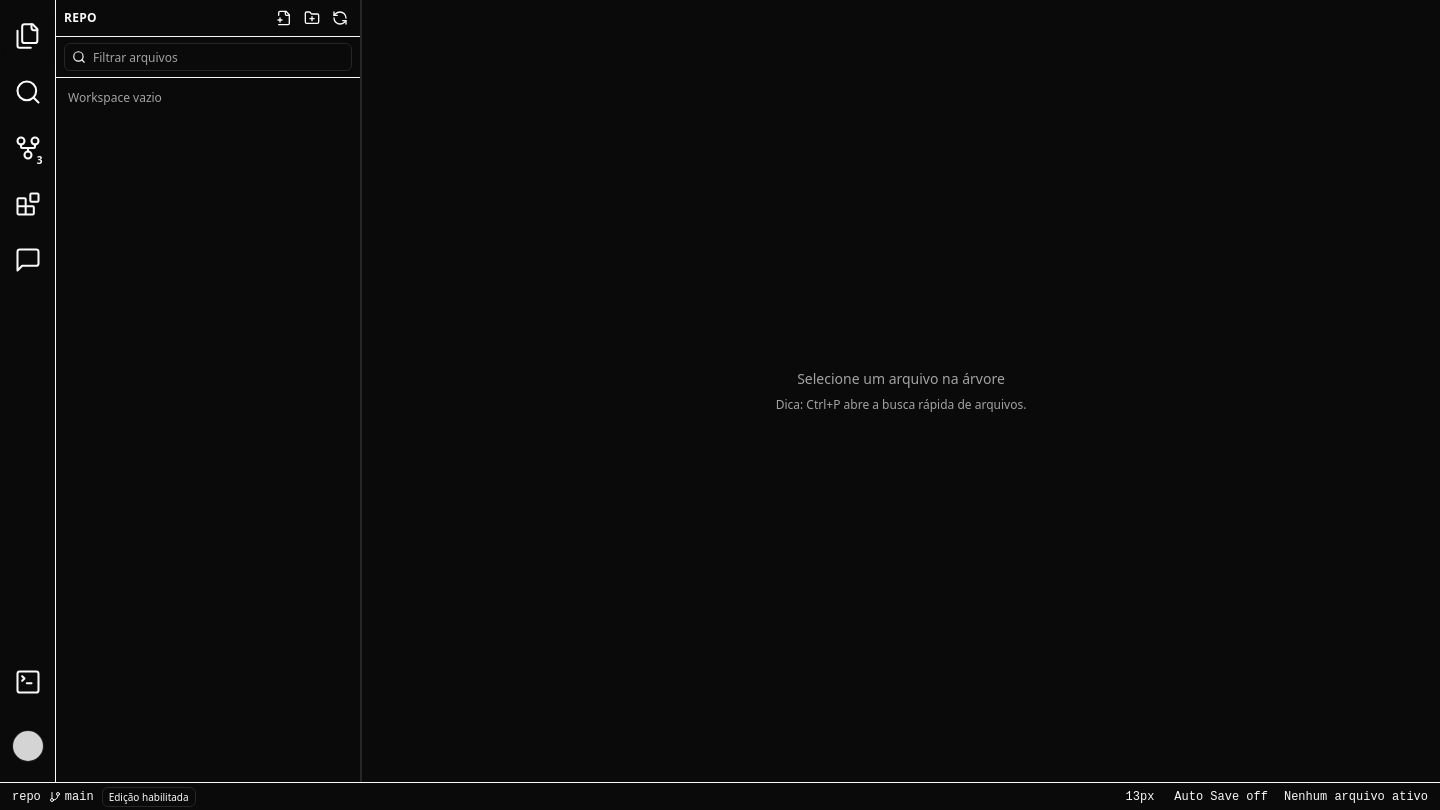
Test case: <AppShell /> › abre o menu de configurações pelo avatar do GitHub
The width and height of the screenshot is (1440, 810).
Click the button named "Conta e configurações" at [28, 746], box x1=4 y1=722 x2=52 y2=770
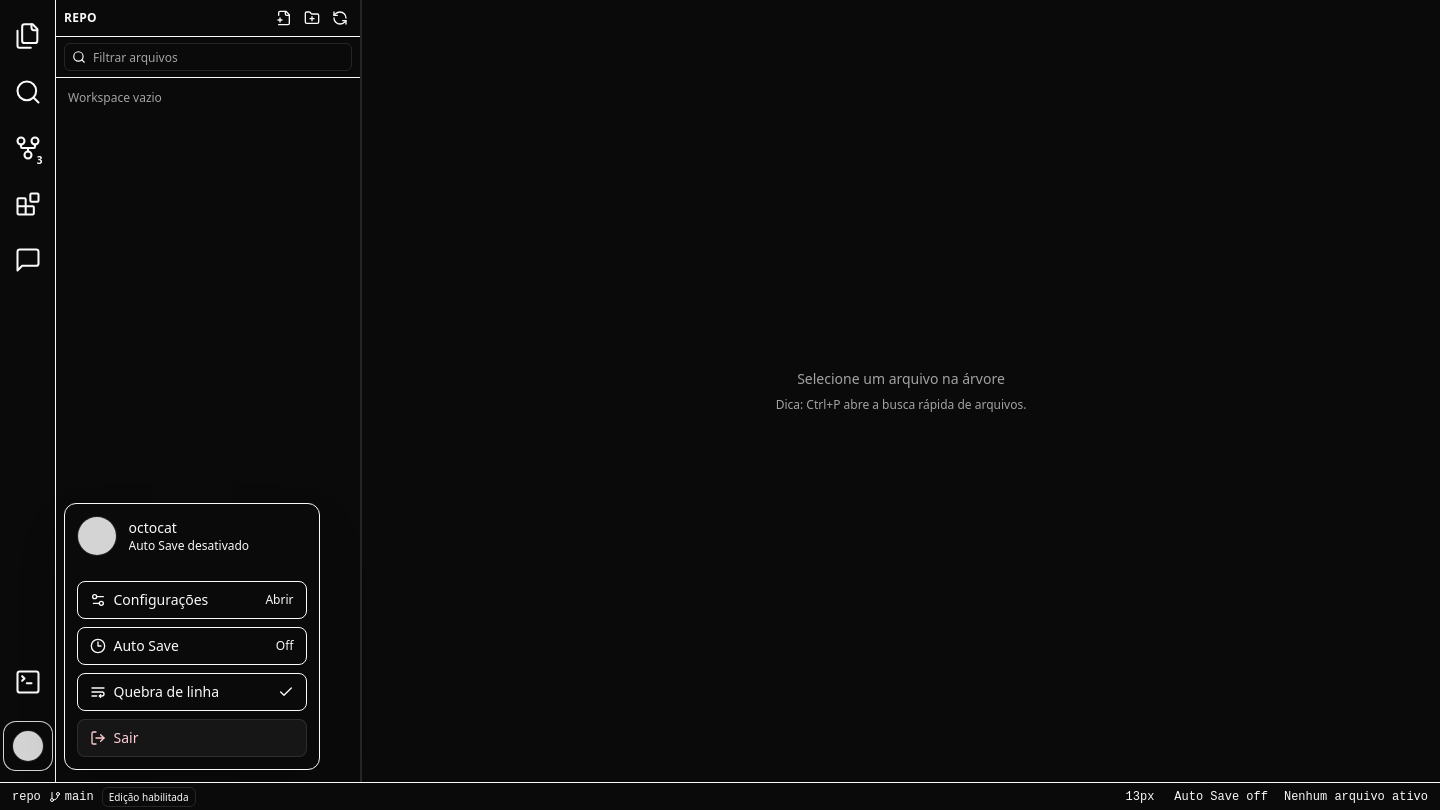
Result: the text "octocat" is shown at x1=128 y1=518 x2=177 y2=537
Result: the button "Configurações Abrir" is shown
Click the button "Configurações Abrir" at [192, 600], box x1=76 y1=581 x2=306 y2=619
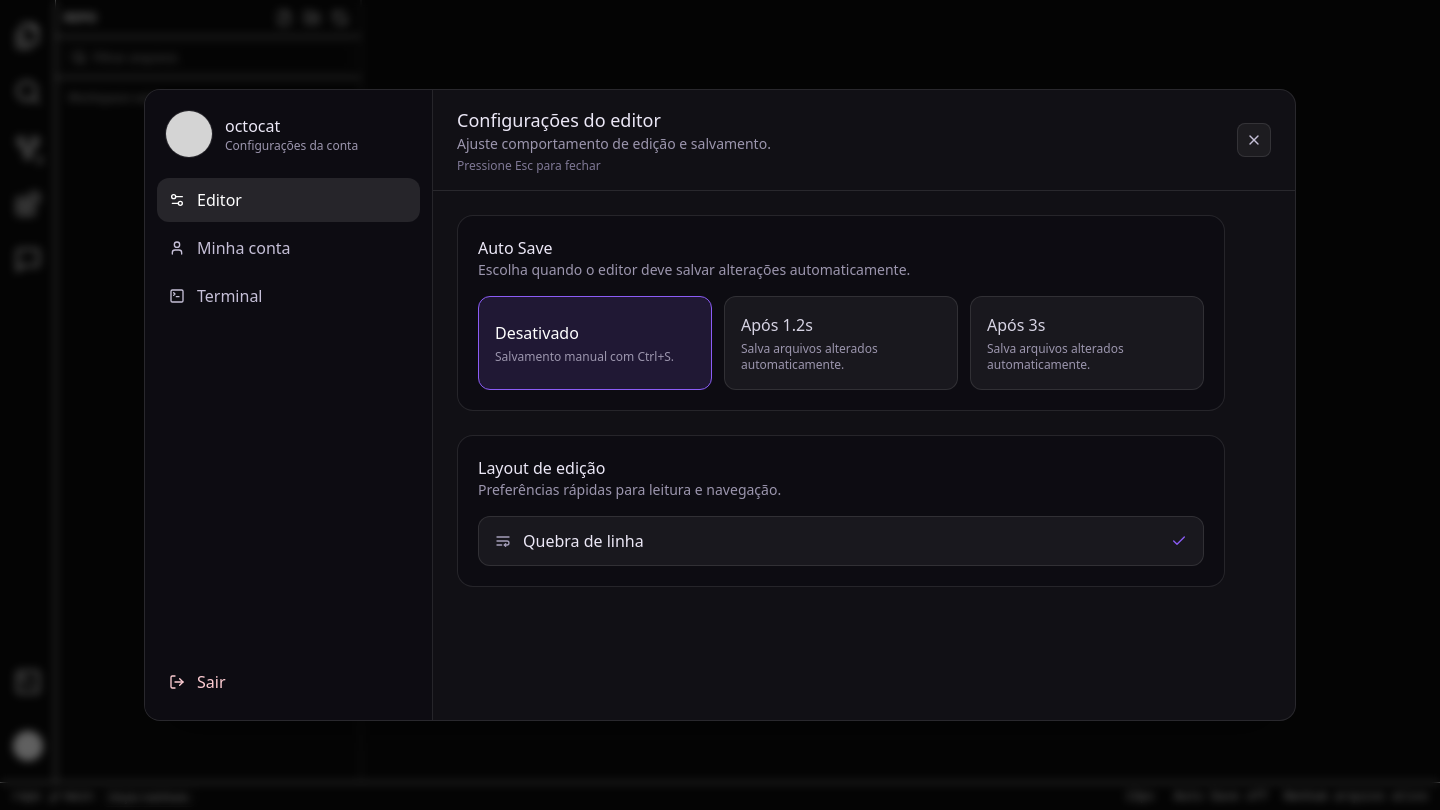
Result: the button "Sair" is shown at x1=157 y1=660 x2=420 y2=704
Result: the heading "Configurações do editor" is shown at x1=457 y1=108 x2=661 y2=132
Result: the button "Após 1.2s" is shown at x1=724 y1=296 x2=958 y2=390
